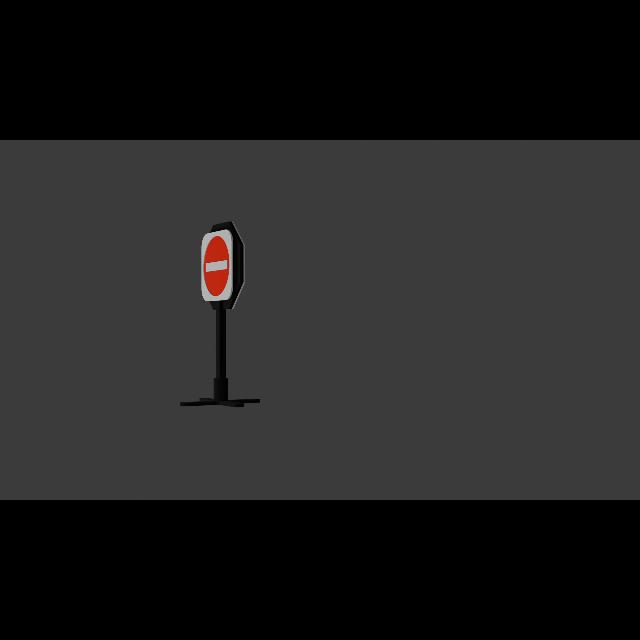sign_noentry: (201, 232, 233, 303)
